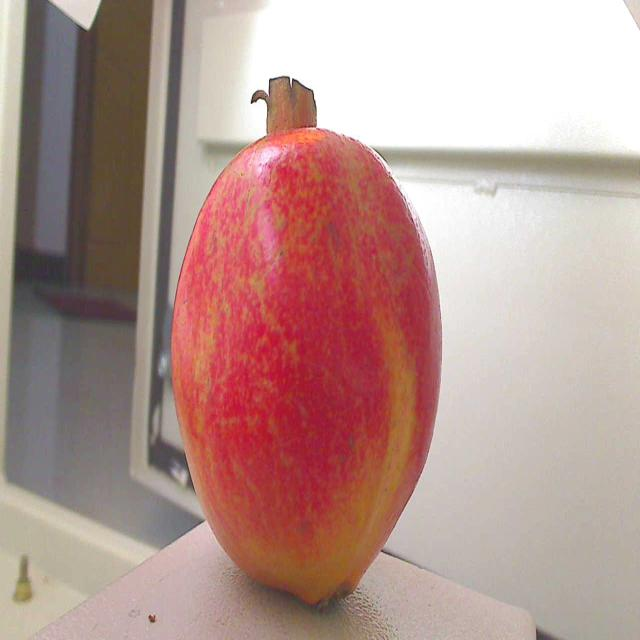pomegranate: (159, 38, 459, 610)
